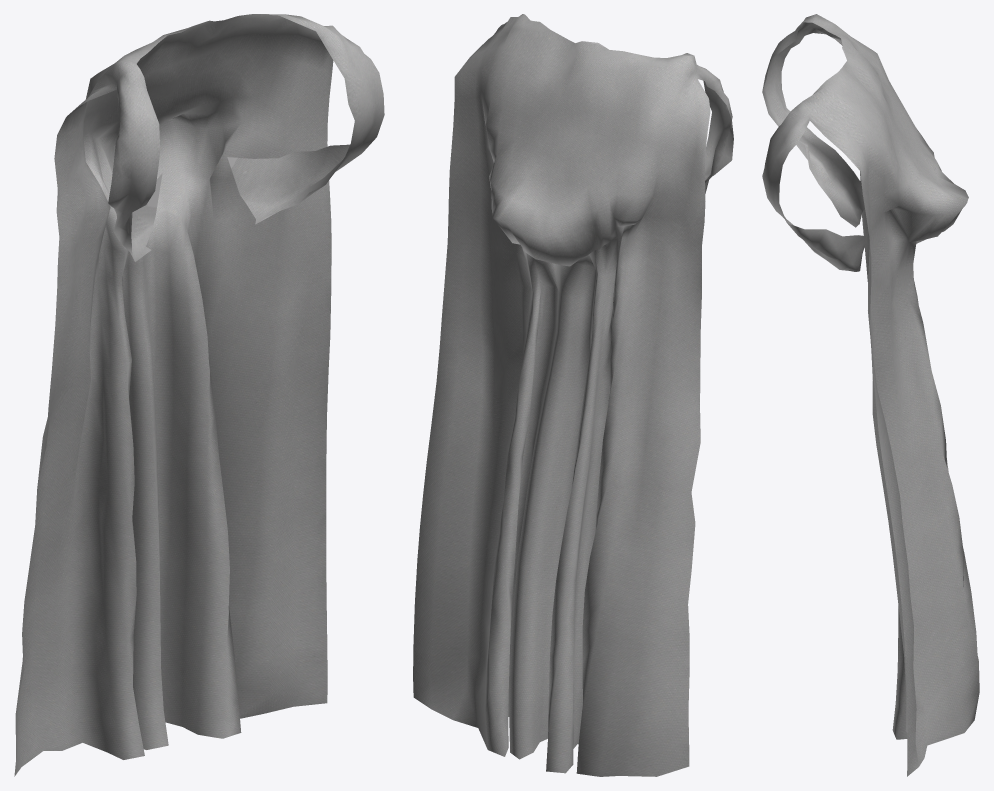
Rendered from rivendell_cape_a.fbx.
The picture shows the model from 3 angles, left to right: view 1: azimuth 30°, elevation 25°; view 2: azimuth 150°, elevation 25°; view 3: azimuth 270°, elevation 25°; orthographic projection. The views are drawn at different scales.
Parts seen in each view (by area): view 1: rivendell_cape_a; view 2: rivendell_cape_a; view 3: rivendell_cape_a.
Part boxes in pixels (box(x1,y1,x2,y2)): rivendell_cape_a: box(14, 14, 384, 776); rivendell_cape_a: box(413, 14, 733, 776); rivendell_cape_a: box(762, 14, 979, 776).
Size of the model in its own units: 0.5927 by 0.4079 by 1.38.
1 material, 1 textured.
